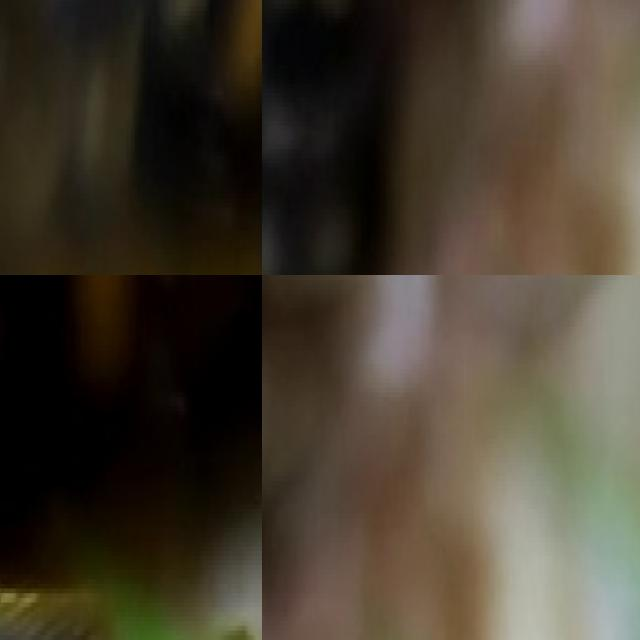fish: (0, 275, 262, 565), (0, 0, 262, 275)
